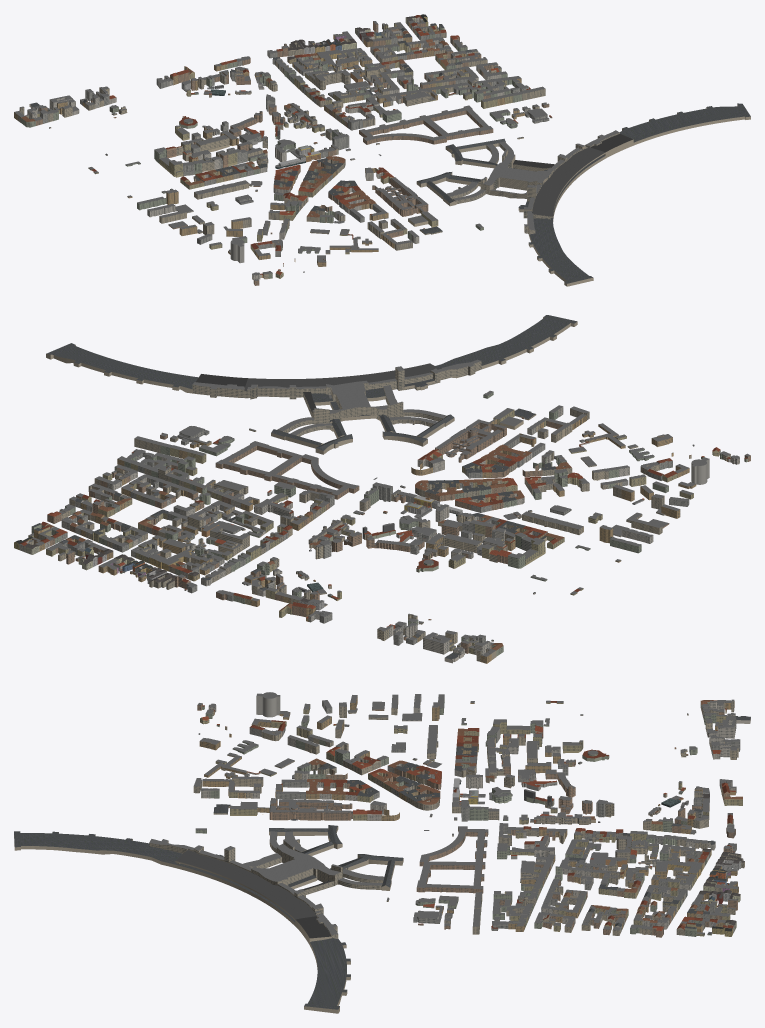
Rendered from buildings.glb.
3 renders of one model, top to bottom at view 1: azimuth 30°, elevation 25°; view 2: azimuth 150°, elevation 25°; view 3: azimuth 270°, elevation 25°, orthographic. The views are drawn at different scales.
Parts seen in each view (by area): view 1: Building Flughafen Tempelhof, Building Columbiahaus, Building Landeskriminalamt Berlin, Building w48925956, Building w106881034; view 2: Building Flughafen Tempelhof, Building Columbiahaus, Building Landeskriminalamt Berlin, Building w48925956; view 3: Building Flughafen Tempelhof, Building Columbiahaus, Building Landeskriminalamt Berlin, Building Kirche auf dem Tempelhofer Feld.
Boxes of the visible parts, x1,y1,x2,y2 form: Building Flughafen Tempelhof: [416, 103, 750, 286]; Building Columbiahaus: [359, 105, 493, 144]; Building Landeskriminalamt Berlin: [372, 177, 428, 216]; Building w48925956: [194, 180, 249, 199]; Building w106881034: [315, 70, 350, 90]; Building Flughafen Tempelhof: [46, 315, 577, 454]; Building Columbiahaus: [215, 441, 359, 499]; Building Landeskriminalamt Berlin: [435, 419, 506, 462]; Building w48925956: [522, 511, 583, 534]; Building Flughafen Tempelhof: [14, 825, 403, 1013]; Building Columbiahaus: [416, 826, 488, 893]; Building Landeskriminalamt Berlin: [269, 798, 352, 820]; Building Kirche auf dem Tempelhofer Feld: [256, 692, 280, 717].
Bounding box in the file's own units: 1503 × 57.95 × 1503.
Materials: 57 (57 with a texture image).
